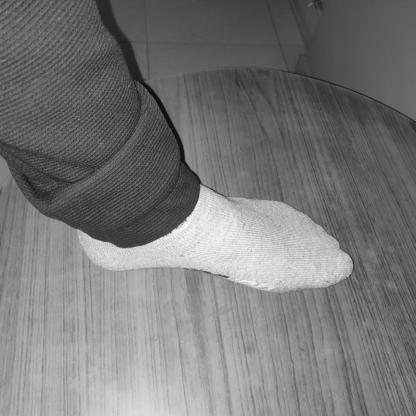ankle: (127, 213, 134, 218)
heel: (101, 260, 108, 265)
left_foot: (77, 186, 355, 294)
pinky: (273, 205, 279, 210)
toe: (335, 259, 342, 266)
